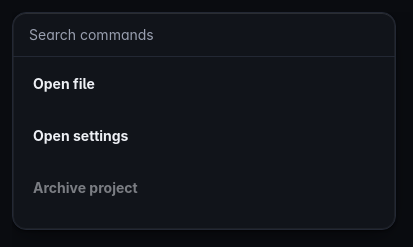
Test case: ArchCommand › renders custom item and state slots
In the search field with placeholder "Search commands": (204, 35) [13,13,395,57], type "deploy"
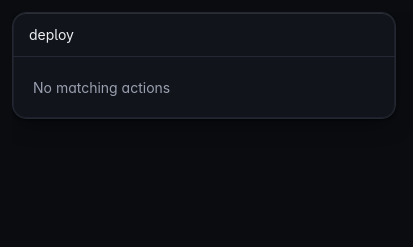
Expected: the message "No matching actions" is shown, [33,79,170,96]
